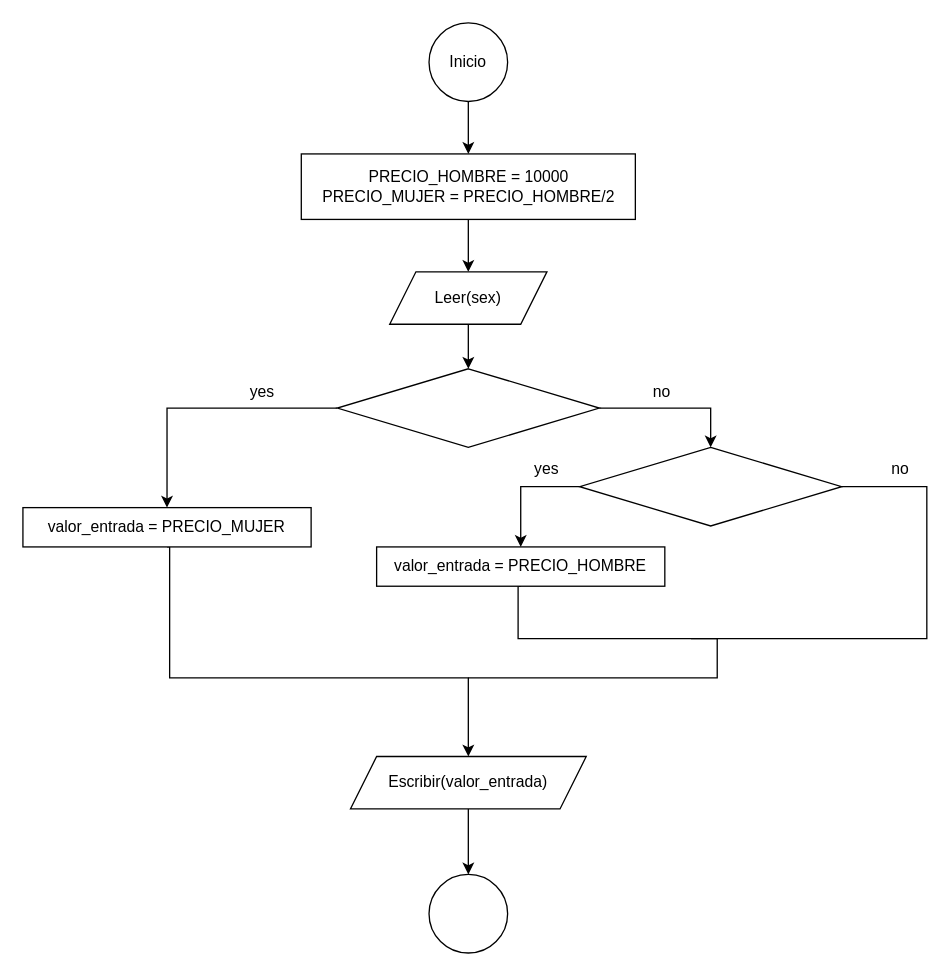
Some shapes in this 951 by 976 pixel diagram are drawn without their labels. Here are the shapes that lost their labels. From the top down, the centre of each, then its label:
the point at 467,407: sex == 'F' or sex == 'f'
the point at 710,486: sex == 'M' or sex == 'm'
the point at 468,913: Fin
